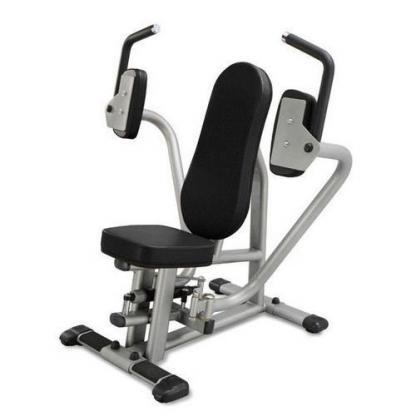Chest Press machine: (52, 14, 358, 406)
